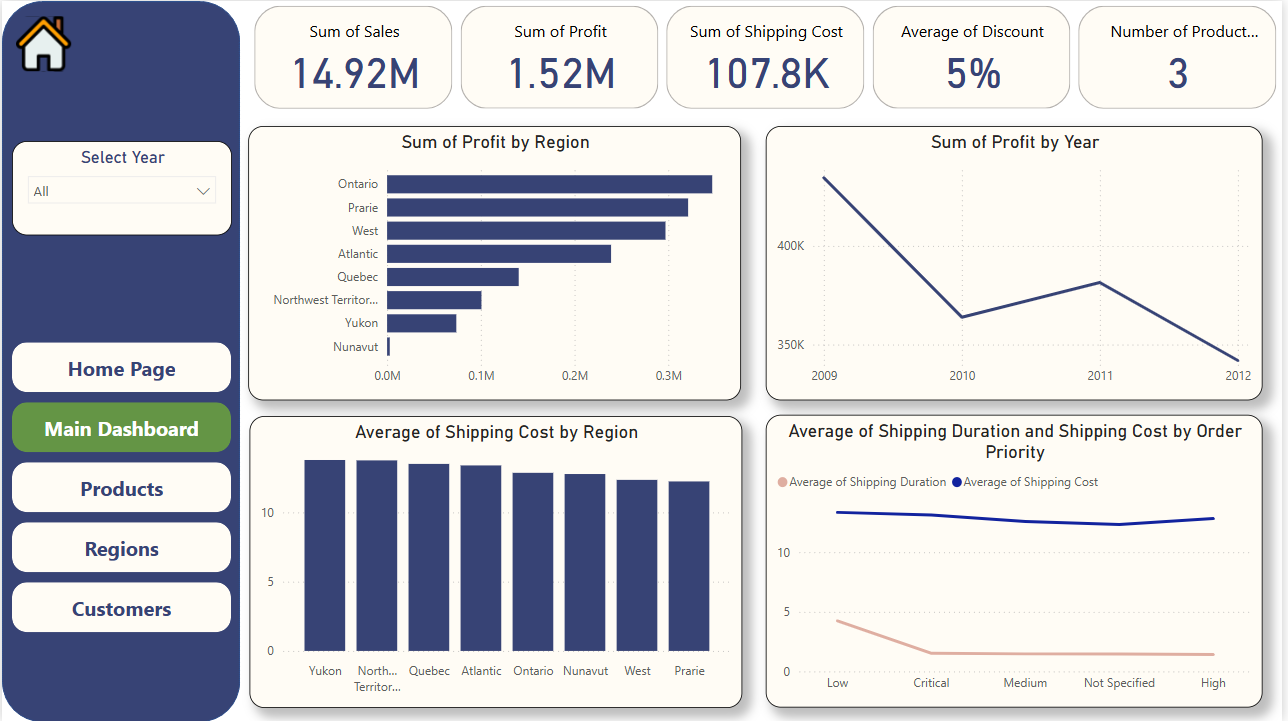

The page's visual inventory and layout, read from the dashboard file:
{"tool":"powerbi","page":{"name":"Main Dashboard","canvas":[1280,720],"ordinal":1},"visuals":[{"type":"cardVisual","fields":{"Data":["Sum(Final Data.Sales)","Sum(Final Data.Profit)","Sum(Final Data.Shipping Cost)","Avg(Final Data.Discount)","Count(Final Data.Product Category)"]},"box":[247,0,1033.3,113.9],"z":0},{"type":"lineChart","fields":{"Category":["Final Data.Order Date.Variation.Date Hierarchy.Year"],"Y":["Sum(Final Data.Profit)"]},"box":[763.4,125.4,497.2,274.6],"z":1000},{"type":"barChart","fields":{"Category":["Final Data.Region"],"Y":["Sum(Final Data.Profit)"]},"box":[246.5,125.4,493,274.6],"z":2000},{"type":"slicer","title":"Select Year","fields":{"Values":["Final Data.Order Date.Variation.Date Hierarchy.Year"]},"box":[9.9,139.4,219.7,94.4],"z":3000},{"type":"columnChart","fields":{"Y":["Avg(Final Data.Shipping Cost)"],"Category":["Final Data.Region"]},"box":[247,414.4,492.6,292.3],"z":4000},{"type":"lineChart","title":"Average of Shipping Duration and Shipping Cost by Order Priority","fields":{"Y":["Avg(Final Data.Shipping Duration)","Avg(Final Data.Shipping Cost)"],"Category":["Final Data.Order Priority"]},"box":[763.4,414.1,497.2,293],"z":5000},{"type":"pageNavigator","box":[9.9,340.8,219.7,294.4],"z":6000},{"type":"actionButton","box":[9.9,11.3,78.9,63.4],"z":7000}]}

Visuals, with their boxes in screenshot pixels (x1, y1, x2, y2), scaled from the page's 1280x720 canvas onto the 1288x721 screenshot:
cardVisual - Sum(Final Data.Sales) x Sum(Final Data.Profit): pyautogui.locateOnScreen(249, 0, 1287, 114)
lineChart - Final Data.Order Date.Variation.Date Hierarchy.Year x Sum(Final Data.Profit): pyautogui.locateOnScreen(768, 126, 1268, 401)
barChart - Final Data.Region x Sum(Final Data.Profit): pyautogui.locateOnScreen(248, 126, 744, 401)
"Select Year" slicer: pyautogui.locateOnScreen(10, 140, 231, 234)
columnChart - Avg(Final Data.Shipping Cost) x Final Data.Region: pyautogui.locateOnScreen(249, 415, 744, 708)
"Average of Shipping Duration and Shipping Cost by Order Priority" lineChart: pyautogui.locateOnScreen(768, 415, 1268, 708)
pageNavigator: pyautogui.locateOnScreen(10, 341, 231, 636)
actionButton: pyautogui.locateOnScreen(10, 11, 89, 75)
